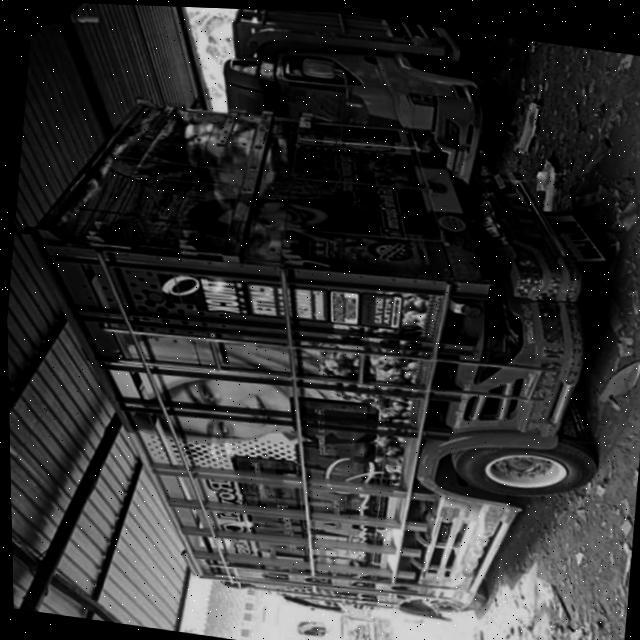truck: (1, 74, 625, 640)
